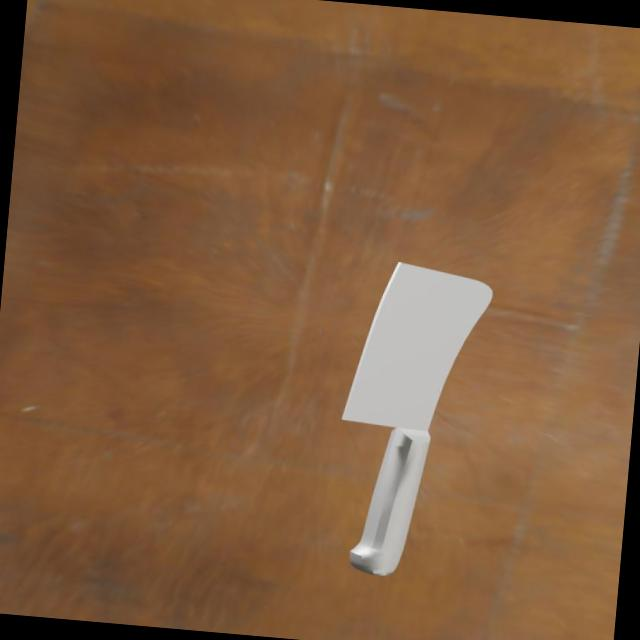knife: (349, 426, 435, 588)
